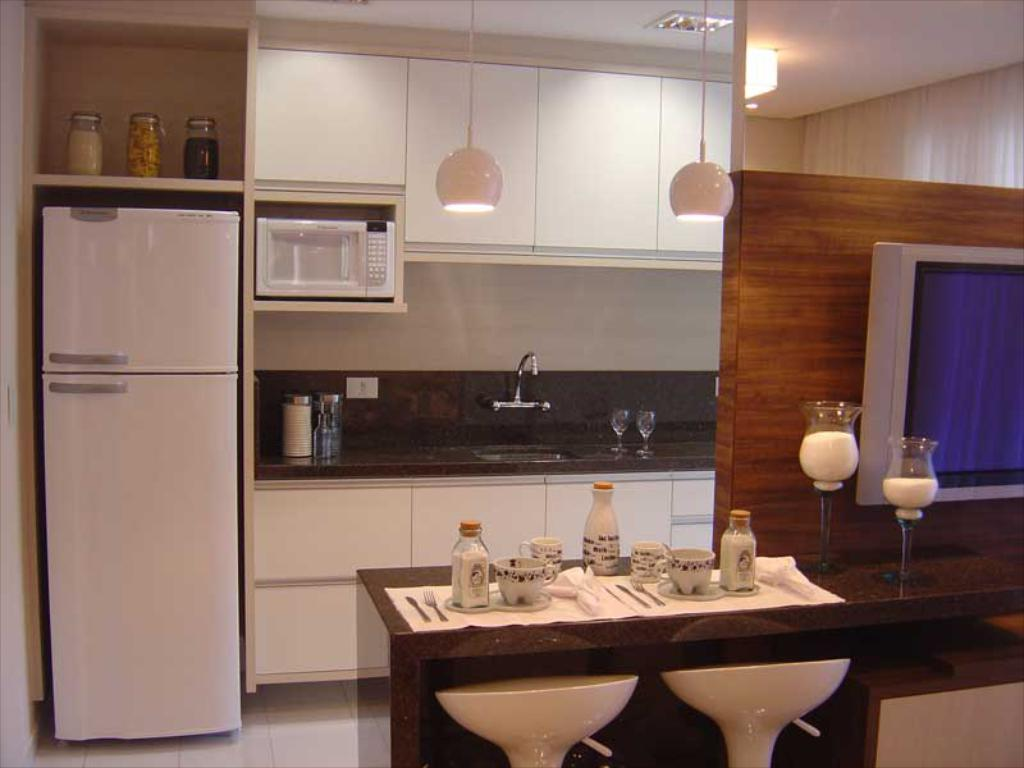cabinet door: (408, 63, 535, 240), (258, 54, 408, 189), (540, 68, 657, 239), (252, 486, 414, 581), (654, 80, 730, 243), (254, 587, 398, 656), (417, 486, 543, 558), (546, 477, 670, 549), (670, 471, 711, 513), (669, 513, 710, 549)
handle: (46, 349, 126, 367), (47, 381, 127, 399)
refrigerator door: (39, 372, 232, 715), (42, 208, 233, 364)
